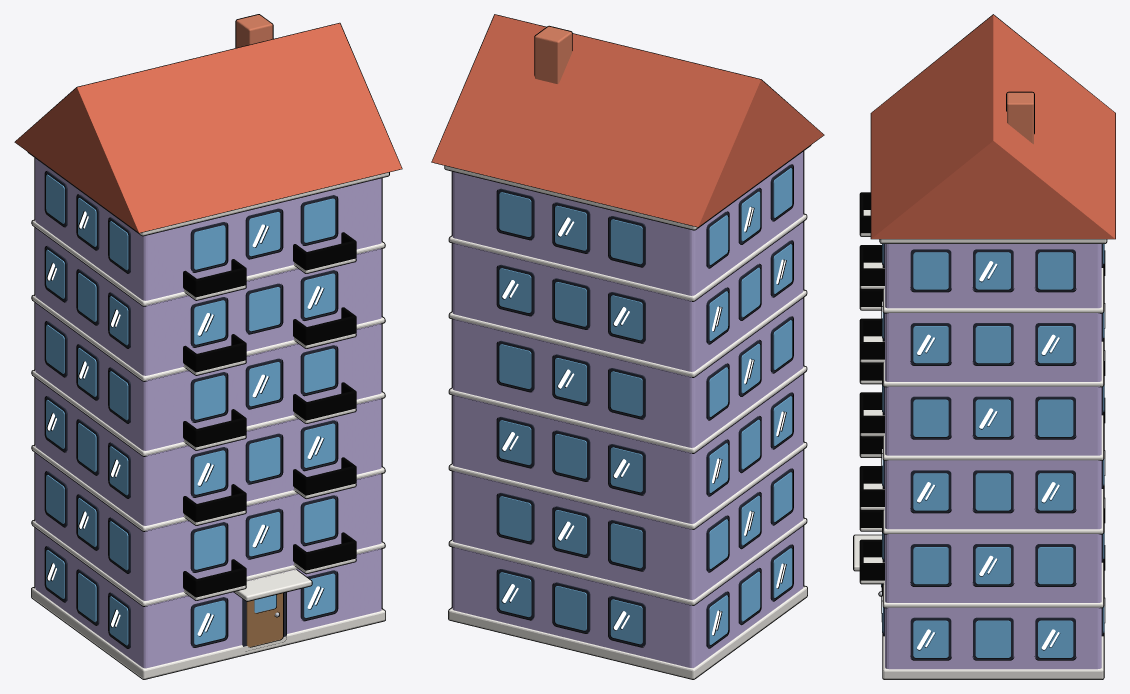
The model's file is Building_Tall_Apartment.fbx.
3 views of the same model, side by side, from view 1: azimuth 30°, elevation 25°; view 2: azimuth 150°, elevation 25°; view 3: azimuth 270°, elevation 25° (orthographic). The views are drawn at different scales.
Visible parts, largest first — view 1: Building_Tall_Apartment; view 2: Building_Tall_Apartment; view 3: Building_Tall_Apartment.
Part boxes in pixels (box(x1,y1,x2,y2)): Building_Tall_Apartment: box(14, 14, 402, 679); Building_Tall_Apartment: box(431, 14, 824, 679); Building_Tall_Apartment: box(853, 14, 1115, 679).
Size of the model in its own units: 22.07 by 45.12 by 19.41.
